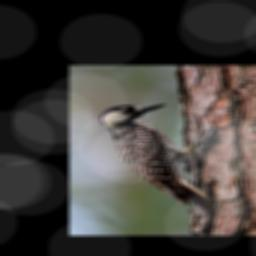Woodpecker: (99, 103, 224, 216)
